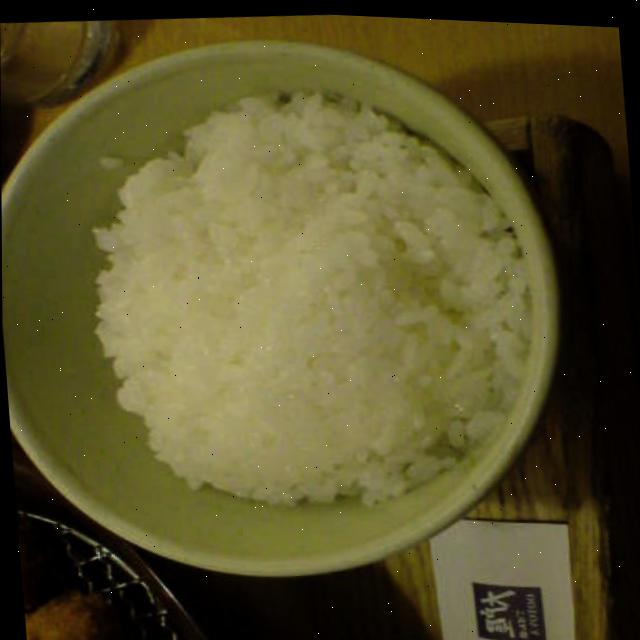米饭主食: (0, 0, 415, 570)
